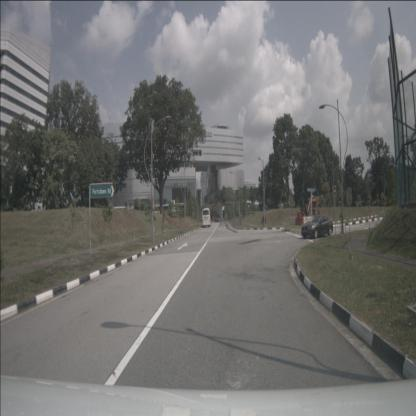movable_object-barrier: (295, 216, 303, 226), (303, 217, 311, 226), (290, 216, 297, 225)
vehicle-bus-rigid: (202, 208, 211, 227)
vehicle-car: (301, 214, 333, 238)
